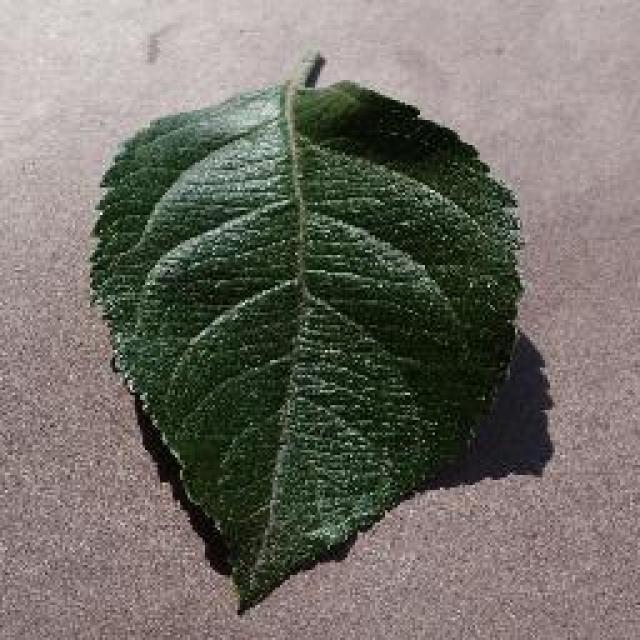apple healthy: (85, 45, 527, 613)
